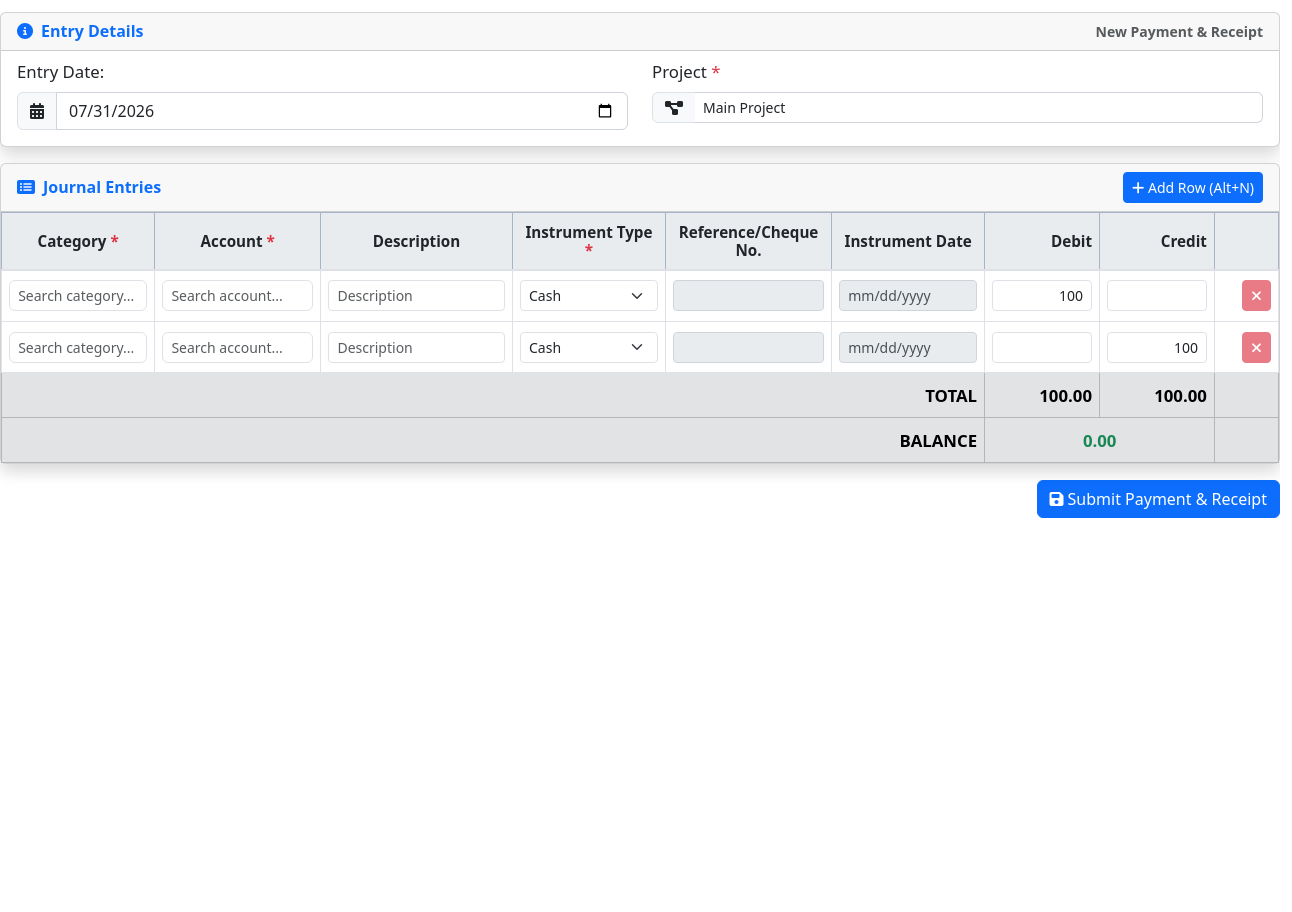
PaymentReceiptForm › shows the posted result and printing after auto-approval in create mode
The width and height of the screenshot is (1292, 912).
Click the button "Submit Payment & Receipt" at {"x": 1158, "y": 499}, box [1036, 480, 1280, 518]
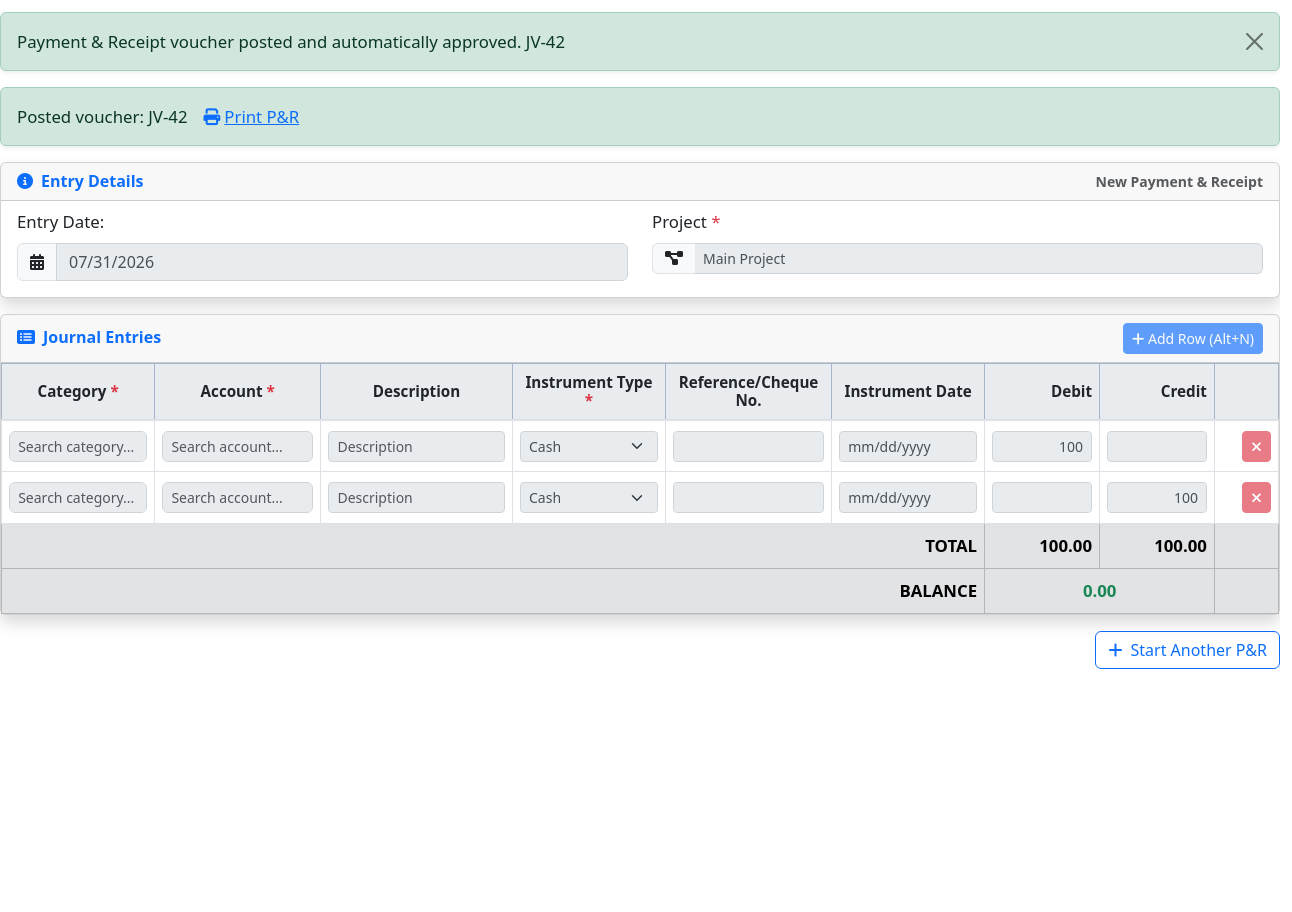
Expected: the text "Payment & Receipt voucher posted and automatically approved. JV-42" is shown, [0, 12, 1280, 71]
Expected: the number field named "Entry 1 debit" is disabled, [992, 431, 1092, 462]
Click the button "Start Another P&R" at {"x": 1188, "y": 650}, box [1096, 631, 1280, 669]
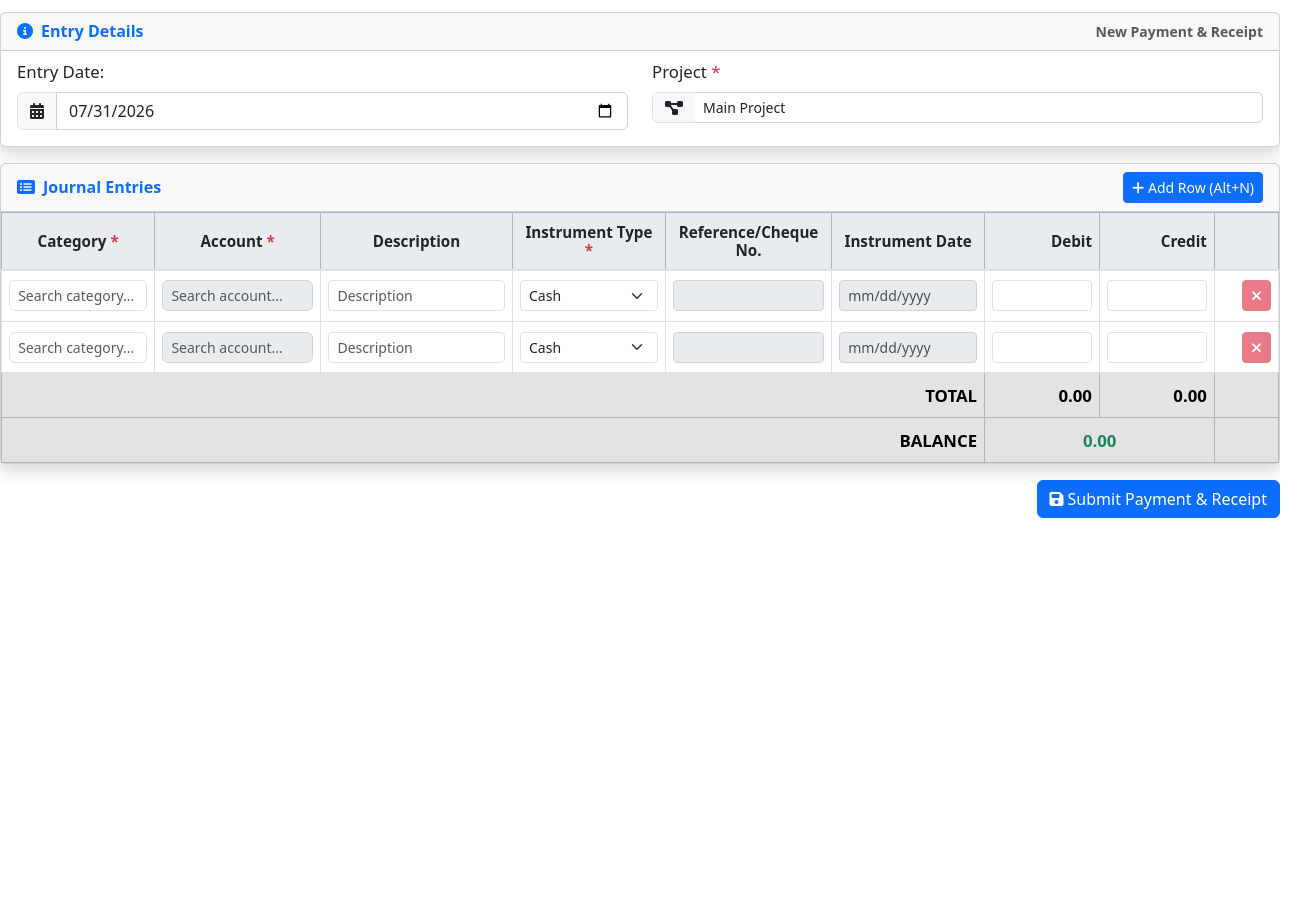
Expected: the link "Print P&R" is gone
Expected: the number field named "Entry 1 debit" is enabled, [992, 280, 1092, 311]
